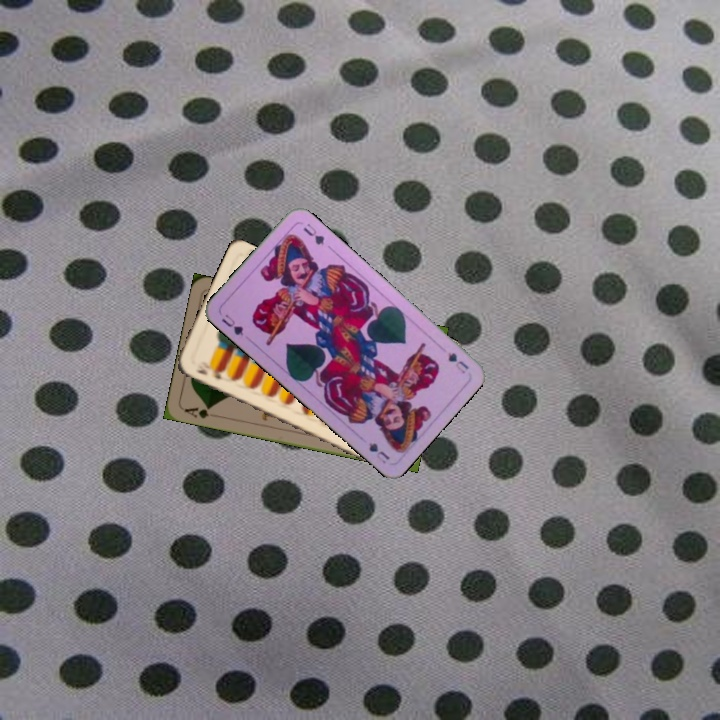E10: (191, 365, 225, 382)
GA: (180, 403, 214, 421)
GU: (217, 310, 246, 339), (444, 348, 471, 376)
